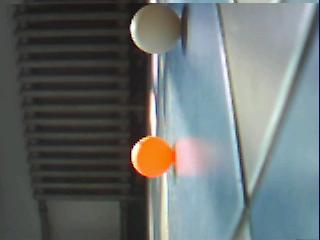oball: (130, 135, 173, 177)
